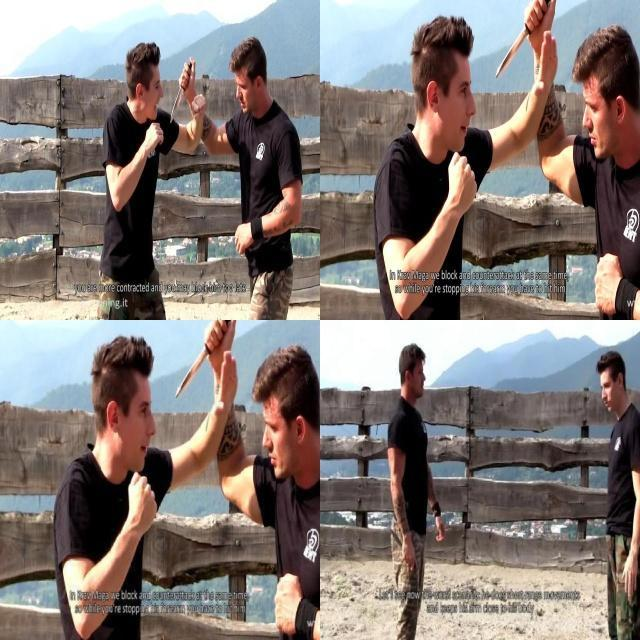-: (172, 320, 244, 403), (492, 0, 556, 77), (168, 52, 195, 125), (387, 525, 419, 571)
